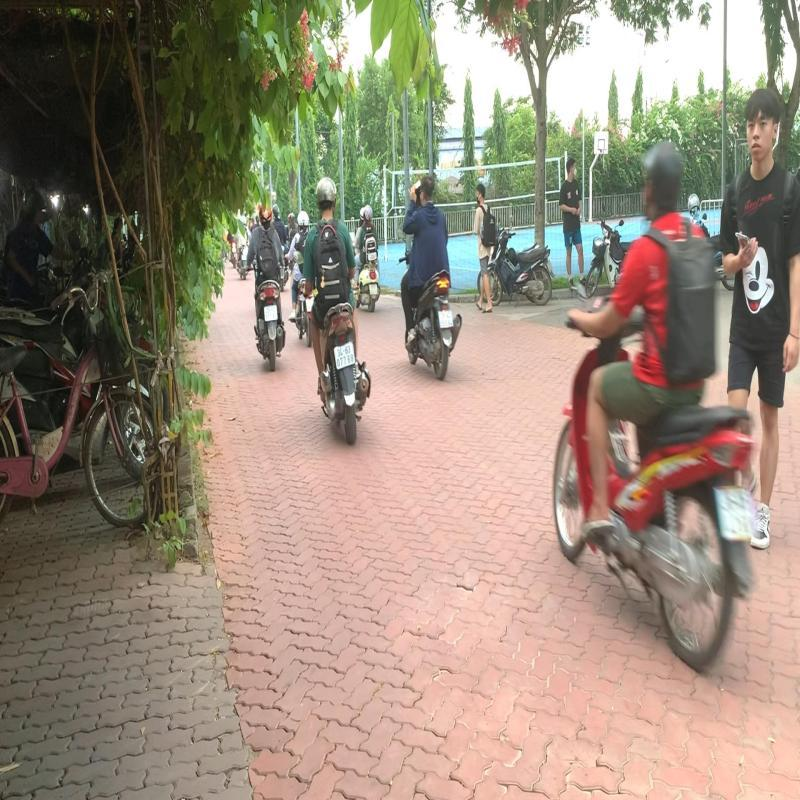nohelmet: (418, 174, 436, 204)
